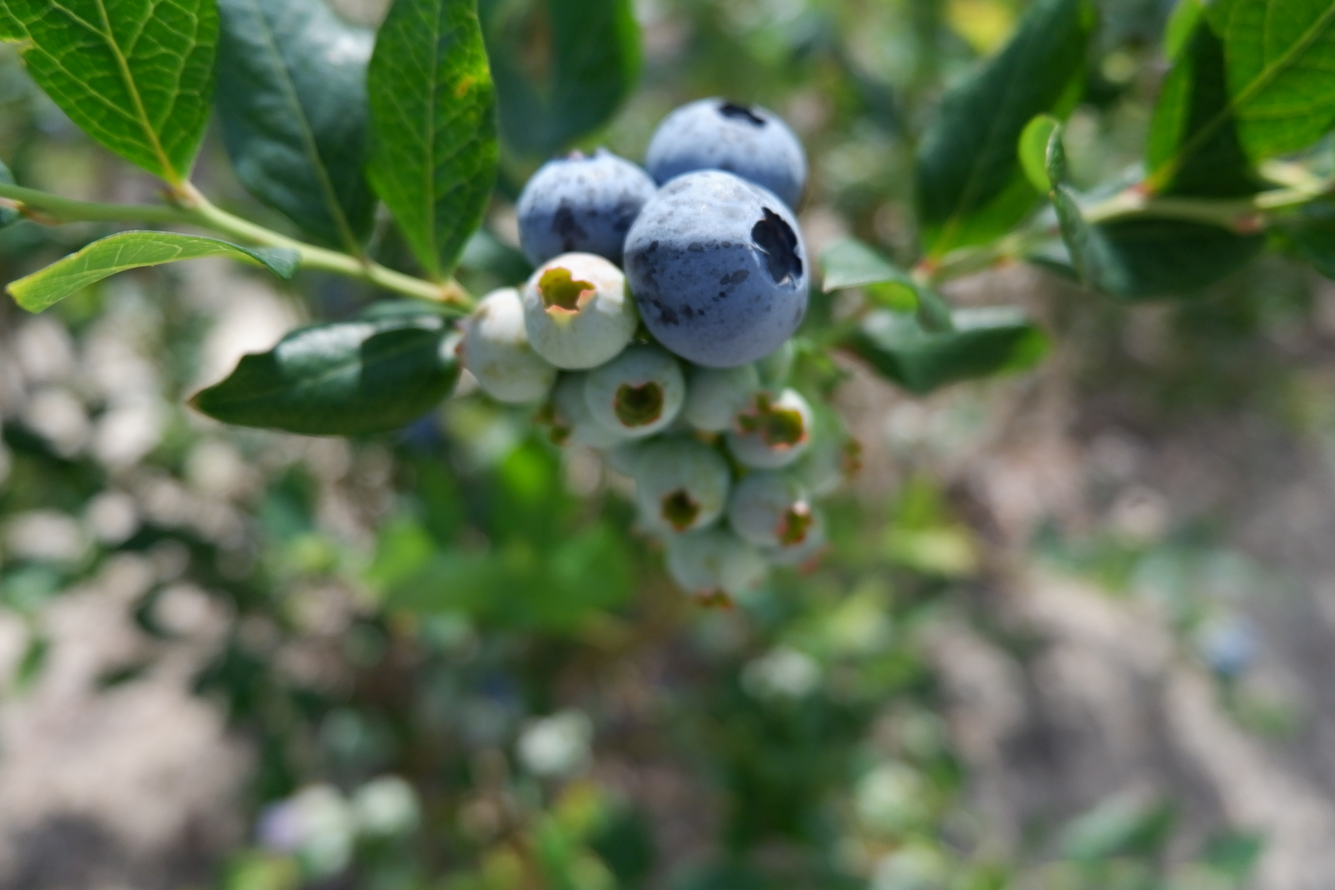Immature: (524, 255, 636, 366), (458, 290, 555, 399), (586, 344, 683, 435), (637, 439, 728, 531), (668, 524, 771, 602), (727, 391, 811, 468), (685, 363, 761, 438), (729, 474, 809, 545), (549, 373, 623, 448), (765, 512, 826, 564)
Mature: (625, 173, 804, 364), (647, 101, 805, 209), (517, 153, 653, 265)
